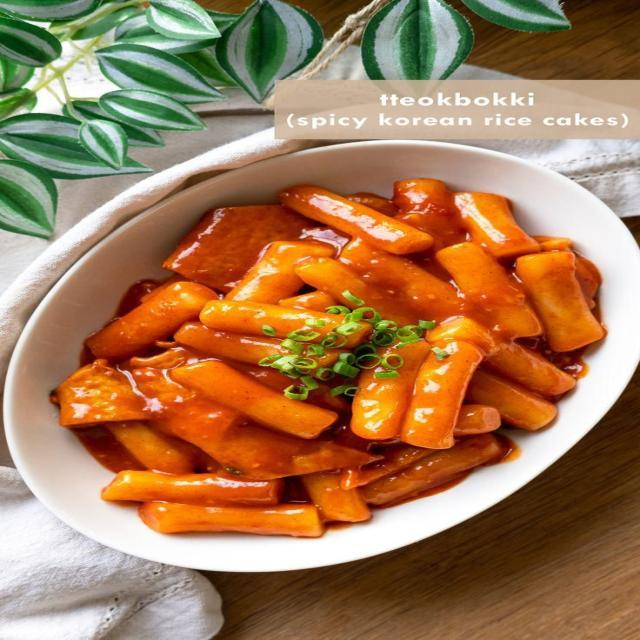banh gao: (172, 380, 387, 473), (113, 476, 339, 537), (344, 438, 516, 500), (175, 359, 322, 422), (326, 248, 466, 314), (277, 197, 431, 255), (62, 365, 193, 427), (534, 248, 605, 355), (441, 243, 528, 330), (75, 285, 189, 349), (105, 416, 194, 476), (451, 188, 528, 254), (492, 330, 571, 390), (190, 297, 265, 360)
banh gao cay tokbokki: (51, 180, 605, 533)
cac loai rau cu: (259, 291, 452, 400)
cha ca: (175, 200, 312, 289)
